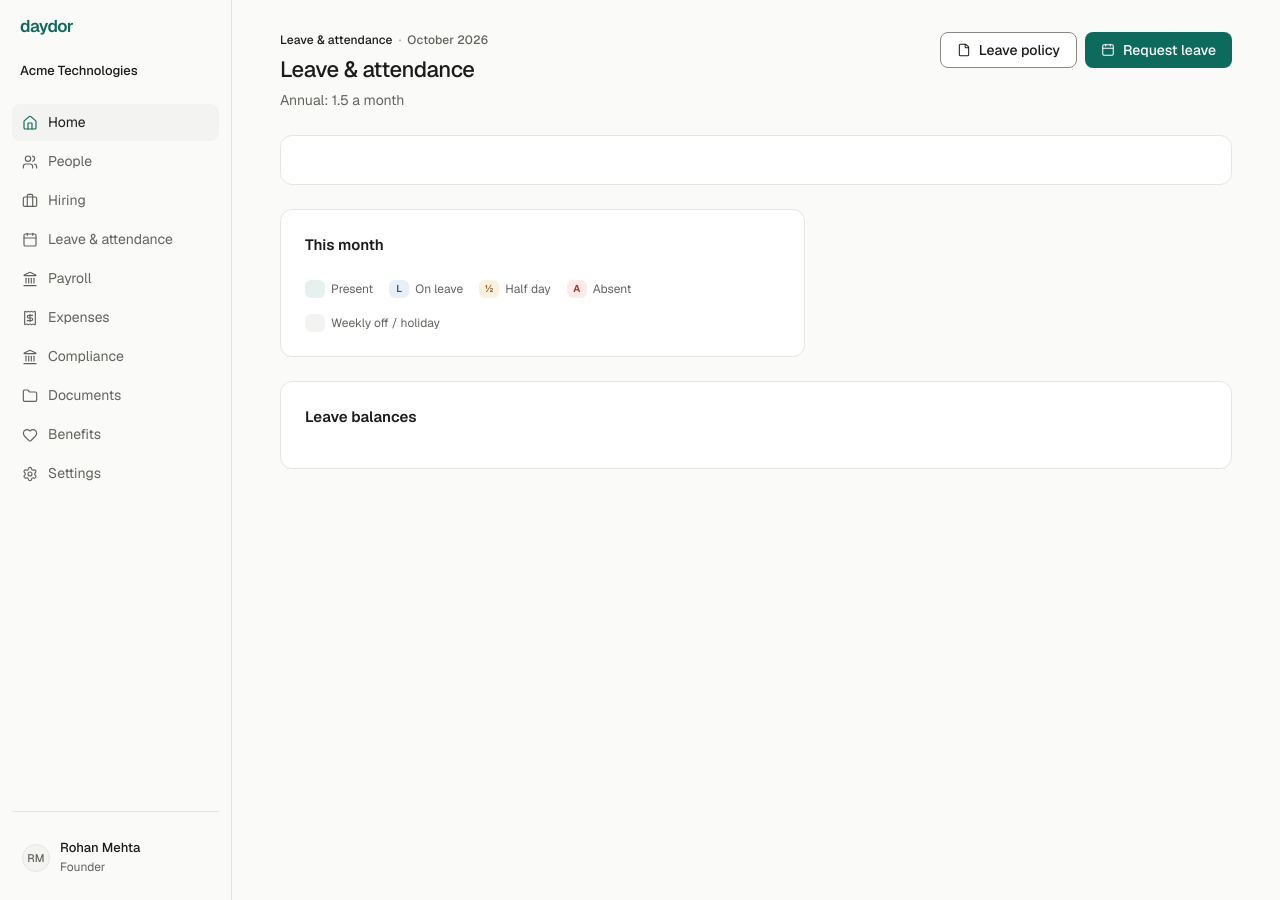
it: Leave › opens the policy read-only
Click the button "Leave policy" at (1008, 50), box 940,32 -> 1077,68
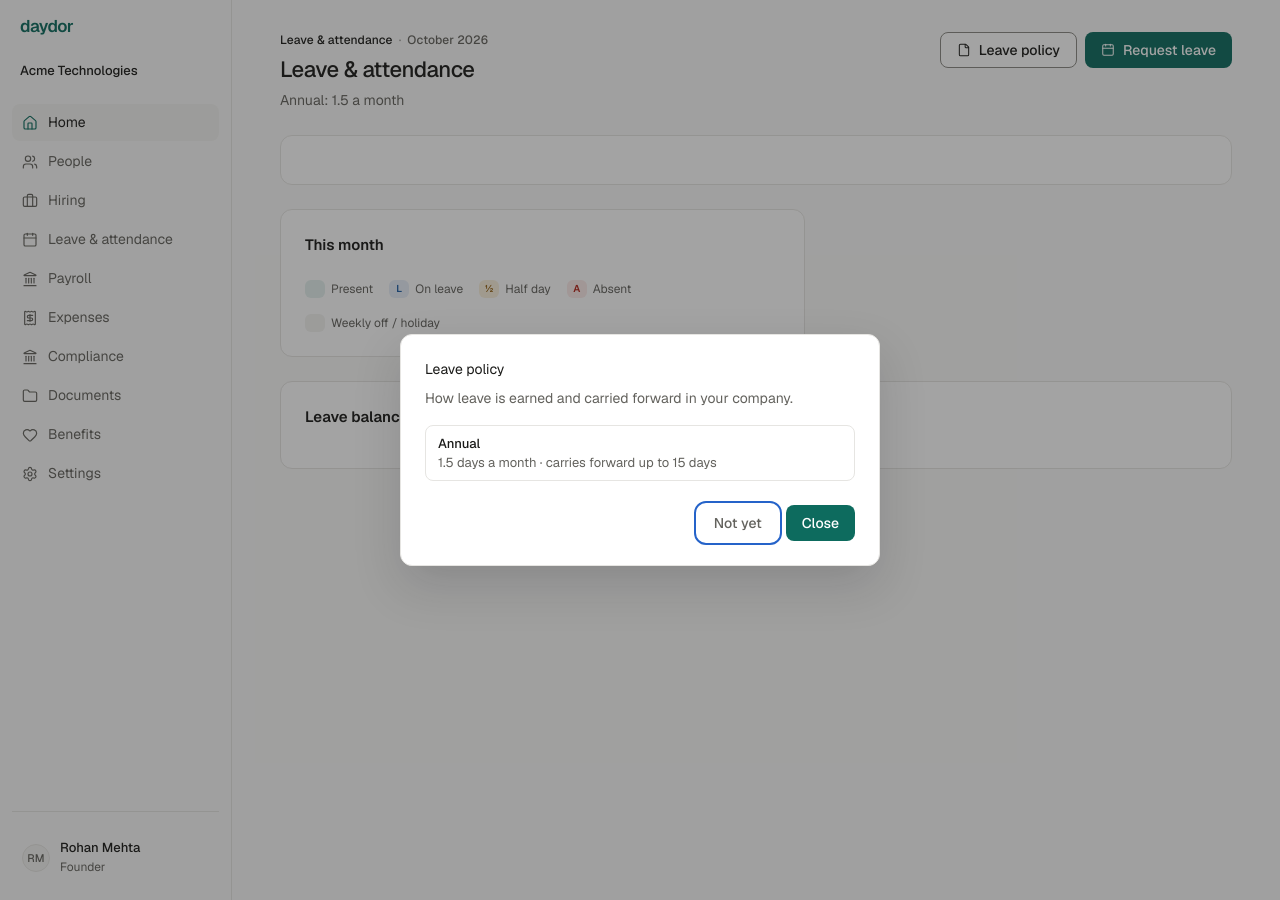
Result: the text "1.5 days a month · carries forward up to 15 days" is shown at 438,454 -> 717,471
